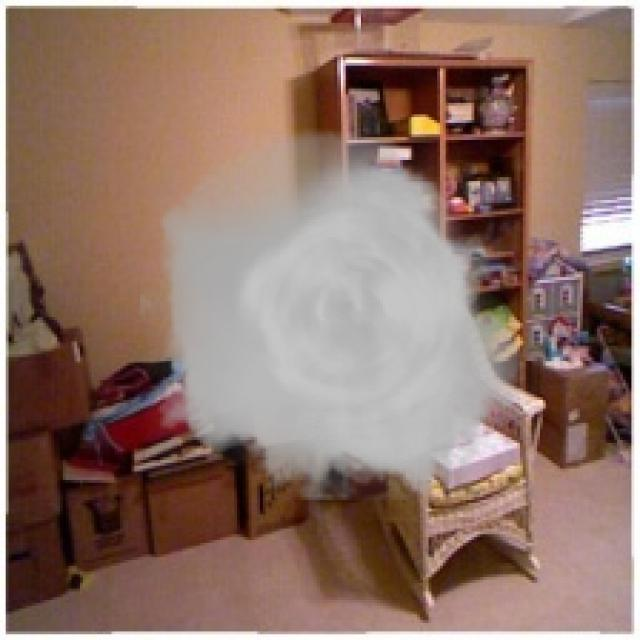smoke: (140, 129, 537, 500)
